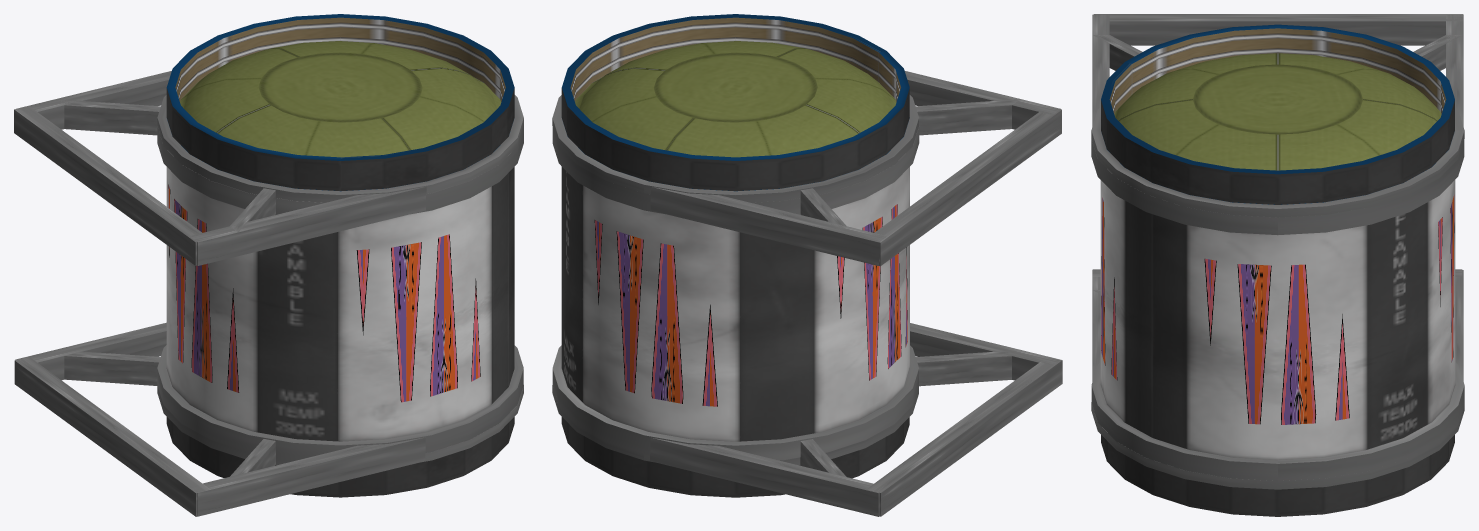
Rendered from FLM-900.FBX.
3 renders of one model, left to right at view 1: azimuth 30°, elevation 25°; view 2: azimuth 150°, elevation 25°; view 3: azimuth 270°, elevation 25°, orthographic.
Parts seen in each view (by area): view 1: Cylinder002, EndCap001, TankSleeve001, decalPanel002, Box006, Box011, Box007, MountingBracketBand002, Box003, TankSleeve002, BarrelBand003, MountingBracketBand001 (+8 smaller); view 2: Cylinder002, EndCap001, TankSleeve001, decalPanel004, Box001, MountingBracketBand002, Box010, Box011, Box003, TankSleeve002, BarrelBand003, MountingBracketBand001 (+8 smaller); view 3: Cylinder002, EndCap001, TankSleeve001, decalPanel001, TankSleeve002, MountingBracketBand002, Box003, MountingBracketBand001, BarrelBand003, BarrelBand002, Box001, Box006 (+6 smaller).
Part boxes in pixels (x1=…): Cylinder002: x1=166, y1=167, x2=514, y2=441; EndCap001: x1=167, y1=41, x2=501, y2=191; TankSleeve001: x1=166, y1=14, x2=514, y2=190; decalPanel002: x1=356, y1=234, x2=480, y2=402; Box006: x1=189, y1=186, x2=426, y2=265; Box011: x1=14, y1=357, x2=210, y2=516; Box007: x1=189, y1=437, x2=425, y2=516; MountingBracketBand002: x1=157, y1=345, x2=523, y2=459; Box003: x1=14, y1=106, x2=201, y2=265; TankSleeve002: x1=166, y1=417, x2=514, y2=497; BarrelBand003: x1=157, y1=95, x2=523, y2=202; MountingBracketBand001: x1=157, y1=126, x2=523, y2=214; Cylinder002: x1=561, y1=167, x2=909, y2=441; EndCap001: x1=567, y1=41, x2=903, y2=191; TankSleeve001: x1=561, y1=14, x2=909, y2=191; decalPanel004: x1=594, y1=220, x2=717, y2=406; Box001: x1=650, y1=187, x2=886, y2=265; MountingBracketBand002: x1=552, y1=345, x2=918, y2=460; Box010: x1=650, y1=437, x2=879, y2=516; Box011: x1=866, y1=360, x2=1062, y2=516; Box003: x1=866, y1=109, x2=1061, y2=266; TankSleeve002: x1=561, y1=417, x2=909, y2=497; BarrelBand003: x1=552, y1=95, x2=918, y2=202; MountingBracketBand001: x1=552, y1=126, x2=919, y2=214; Cylinder002: x1=1100, y1=180, x2=1455, y2=459; EndCap001: x1=1107, y1=53, x2=1448, y2=204; TankSleeve001: x1=1101, y1=24, x2=1454, y2=204; decalPanel001: x1=1204, y1=258, x2=1349, y2=424; TankSleeve002: x1=1101, y1=435, x2=1454, y2=516; MountingBracketBand002: x1=1091, y1=362, x2=1464, y2=480; Box003: x1=1093, y1=14, x2=1463, y2=45; MountingBracketBand001: x1=1091, y1=139, x2=1464, y2=235; BarrelBand003: x1=1091, y1=107, x2=1464, y2=217; BarrelBand002: x1=1091, y1=402, x2=1464, y2=489; Box001: x1=1446, y1=14, x2=1463, y2=126; Box006: x1=1092, y1=14, x2=1109, y2=126.
Size of what is drawn, in the model's own units: 2.45 by 1.97 by 2.
